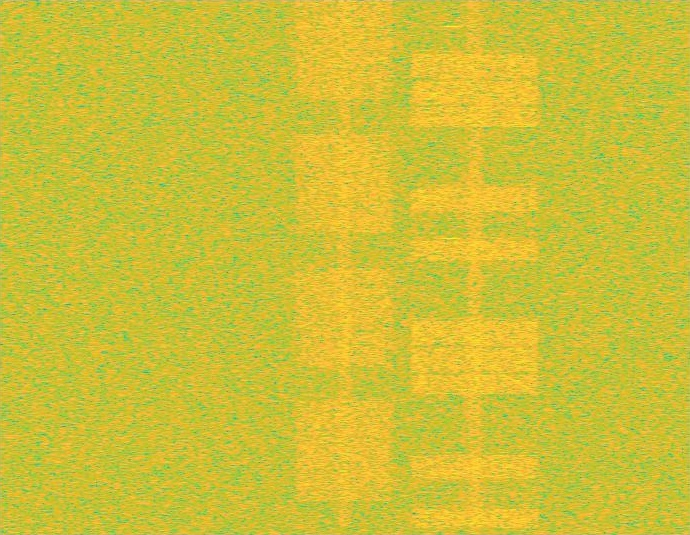5G: (293, 0, 396, 534)
DSSS: (466, 0, 484, 534), (337, 0, 351, 534)
LTE: (406, 0, 544, 534)
Radar: (445, 0, 459, 534)
